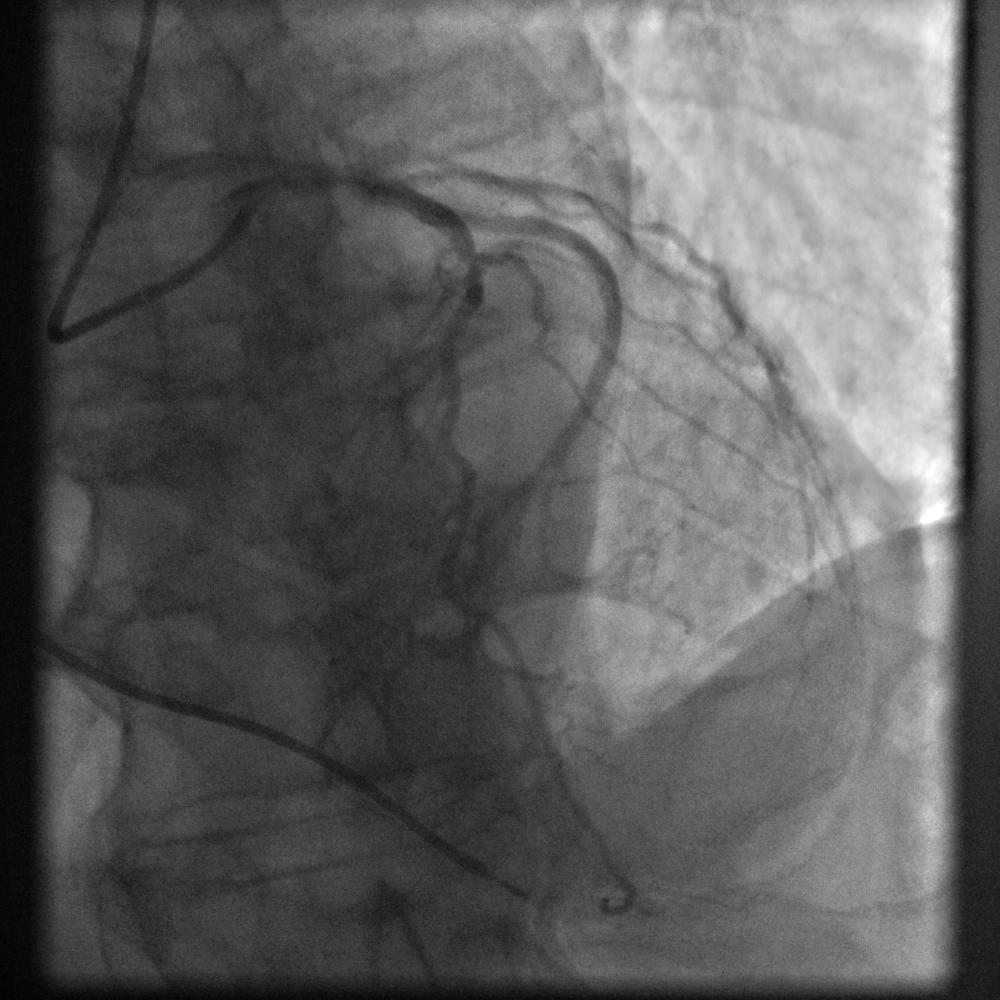Stenosis: (450, 239, 506, 295)
